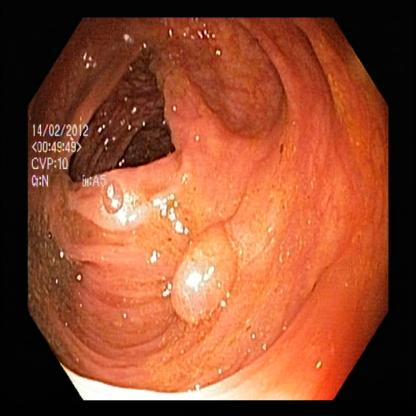Labels: (27, 111, 109, 205)
Polyps: (166, 230, 251, 324)
